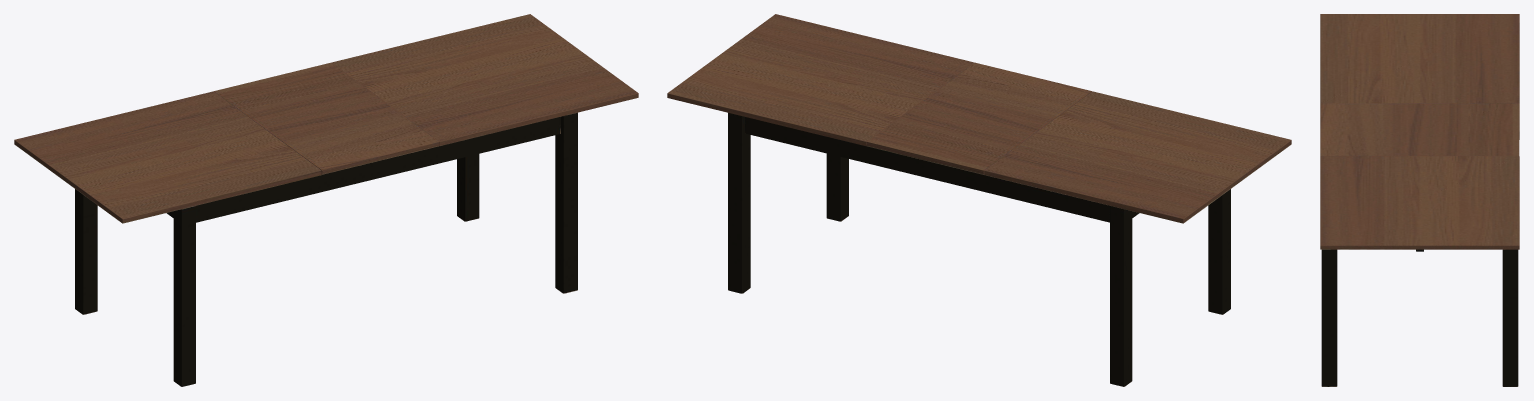
The model's file is alhult_sto_rozkadany_50600783.glb.
3 renders of one model, left to right at view 1: azimuth 30°, elevation 25°; view 2: azimuth 150°, elevation 25°; view 3: azimuth 270°, elevation 25°, orthographic. The views are drawn at different scales.
Parts seen in each view (by area): view 1: alhult_sto_rozkadany_50600783; view 2: alhult_sto_rozkadany_50600783; view 3: alhult_sto_rozkadany_50600783.
Part boxes in pixels (bbox=[...]): alhult_sto_rozkadany_50600783: bbox=[14, 14, 638, 386]; alhult_sto_rozkadany_50600783: bbox=[667, 14, 1291, 386]; alhult_sto_rozkadany_50600783: bbox=[1320, 14, 1519, 386].
Bounding box in the file's own units: 2.2 × 0.7488 × 0.8013.
Materials: 1 (1 with a texture image).
